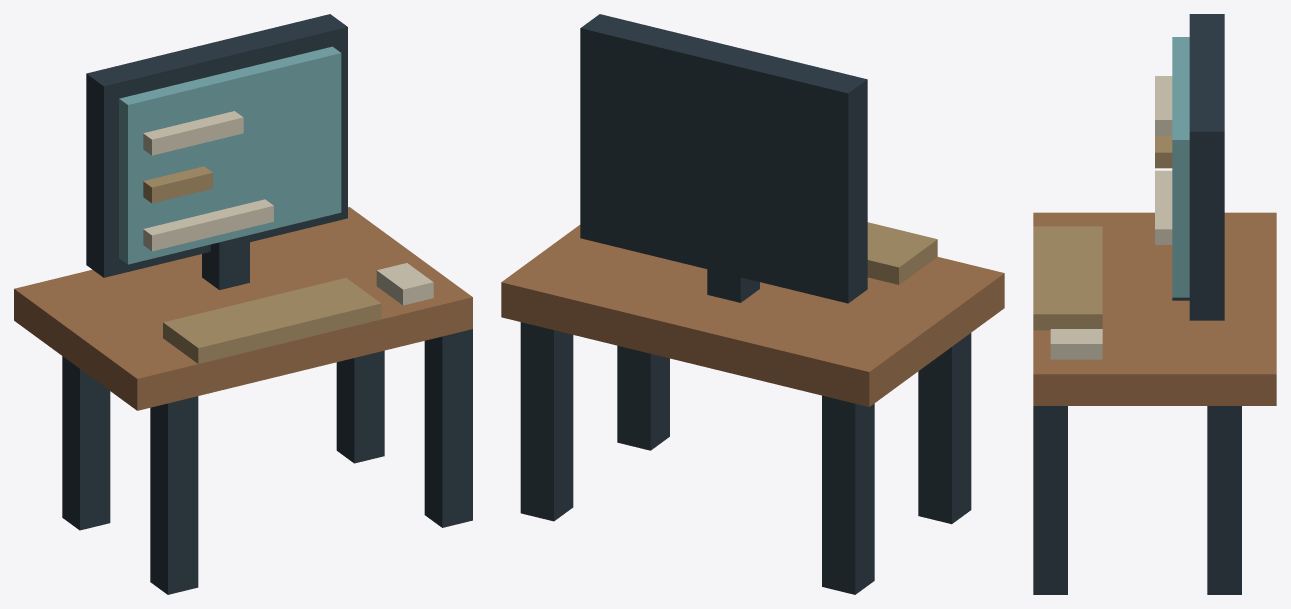
File: logistics-11.glb
3 views of the same model, side by side, from view 1: azimuth 30°, elevation 25°; view 2: azimuth 150°, elevation 25°; view 3: azimuth 270°, elevation 25° (orthographic). The views are drawn at different scales.
Visible parts, largest first — view 1: Dispatch terminal; view 2: Dispatch terminal; view 3: Dispatch terminal.
Boxes of the visible parts, x1,y1,x2,y2 form: Dispatch terminal: (14,14,472,594); Dispatch terminal: (501,14,1004,594); Dispatch terminal: (1033,14,1276,594).
Size of the model in its own units: 1.76 by 2.24 by 1.12.
